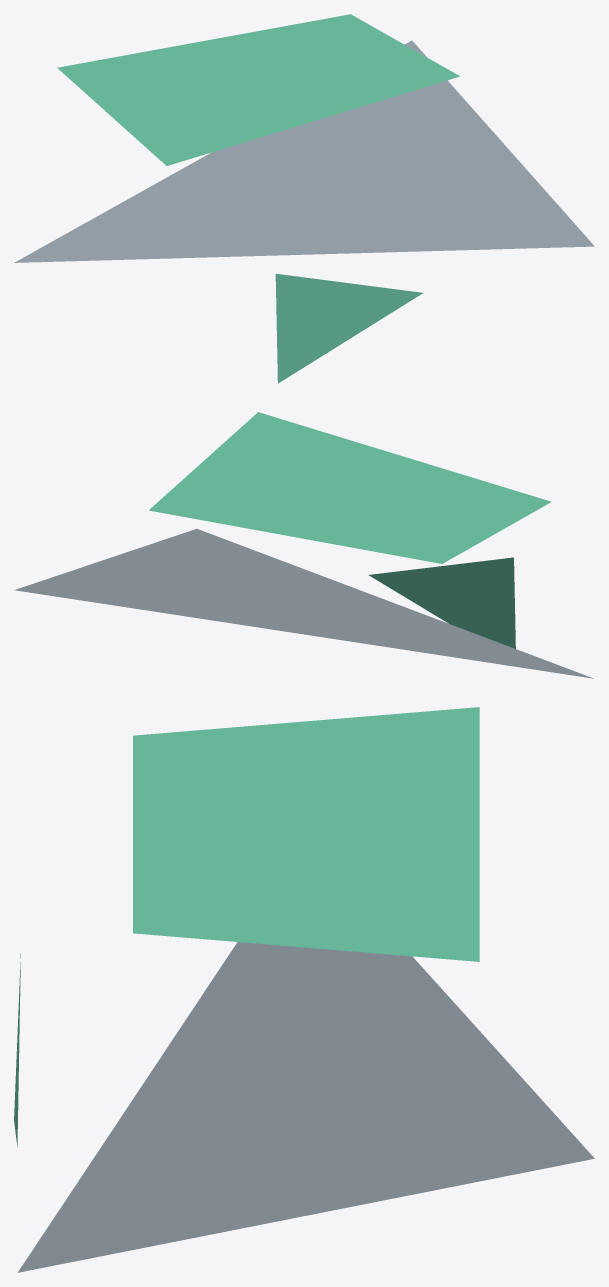
File: CO_TianmenFortress_LOD2.glb
The picture shows the model from 3 angles, top to bottom: view 1: azimuth 30°, elevation 25°; view 2: azimuth 150°, elevation 25°; view 3: azimuth 270°, elevation 25°; orthographic projection. The views are drawn at different scales.
Visible parts, largest first — view 1: EntranceGate; view 2: EntranceGate; view 3: EntranceGate.
Boxes of the visible parts, left/top/right/bottom form: EntranceGate: left=14, top=14, right=594, bottom=383; EntranceGate: left=14, top=412, right=593, bottom=678; EntranceGate: left=14, top=707, right=594, bottom=1272.
Bounding box in the file's own units: 850 × 375 × 553.
